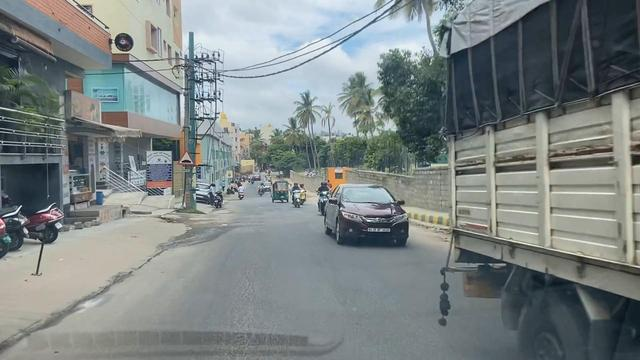HMV: (431, 0, 640, 358)
